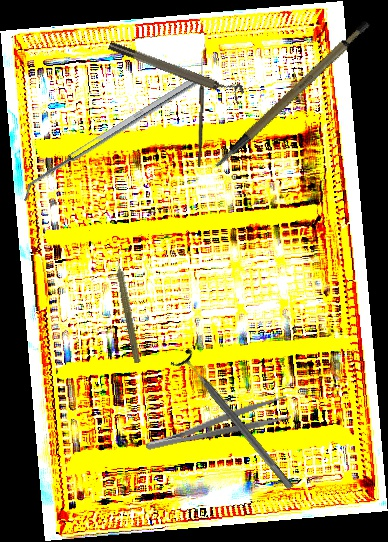Dressing Forceps: (141, 394, 293, 454)
Fixation Ring: (169, 346, 302, 497), (107, 33, 246, 105)
Handpiece: (110, 251, 146, 364)
Scalpel Handle: (192, 17, 388, 171)
Spatula Surgical: (15, 72, 210, 203)
Surgical Spoon: (197, 57, 205, 168)
